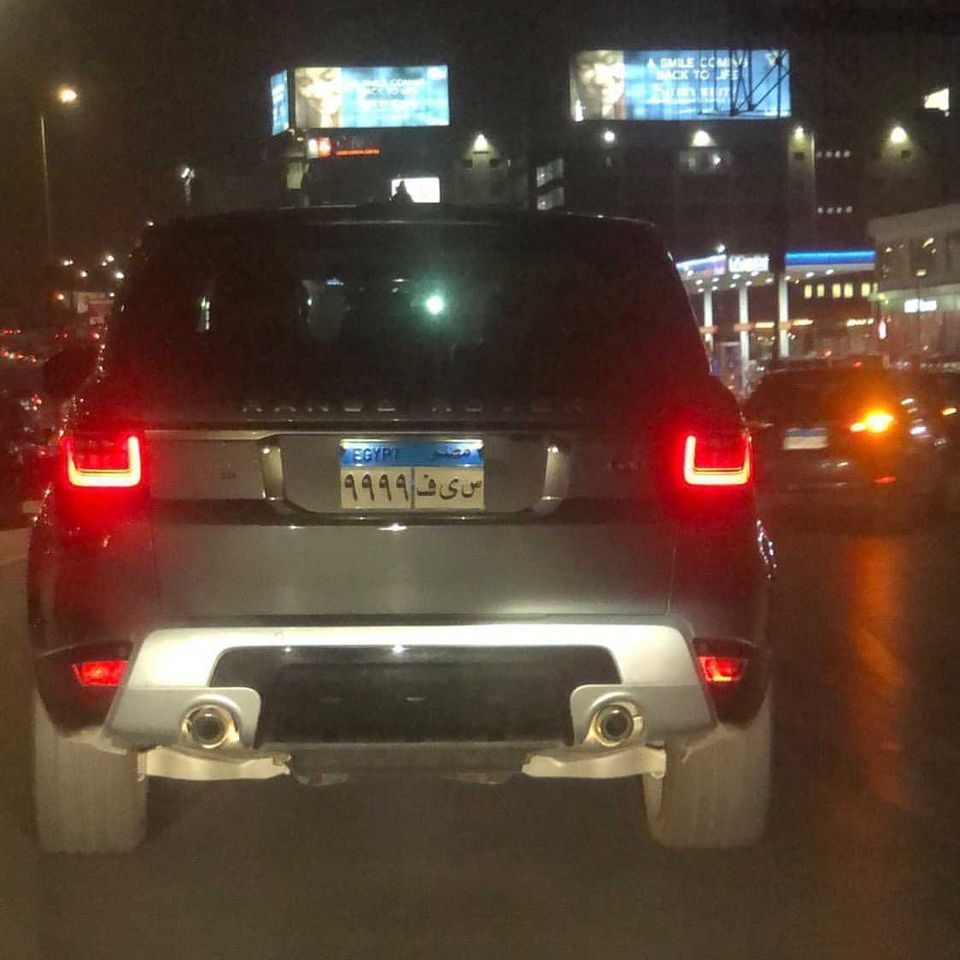carpl: (336, 447, 487, 512)
